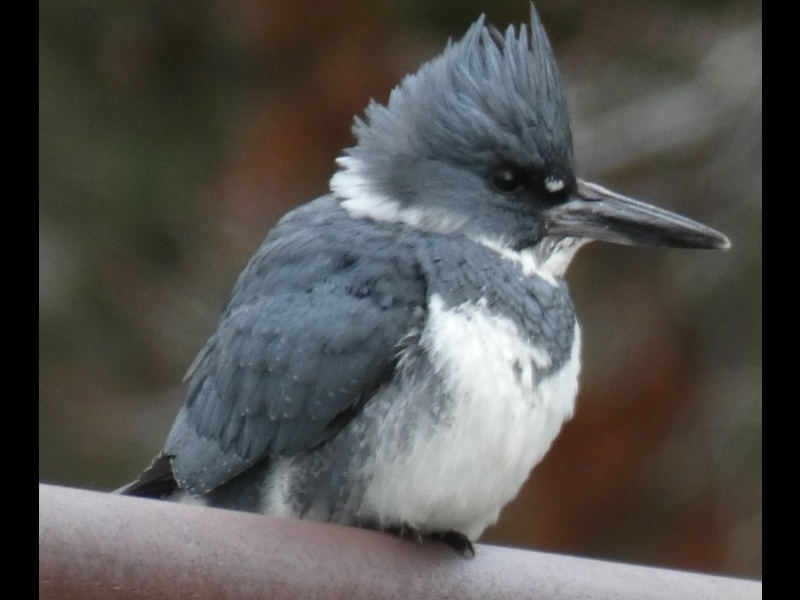kingfisher: (110, 10, 736, 556)
